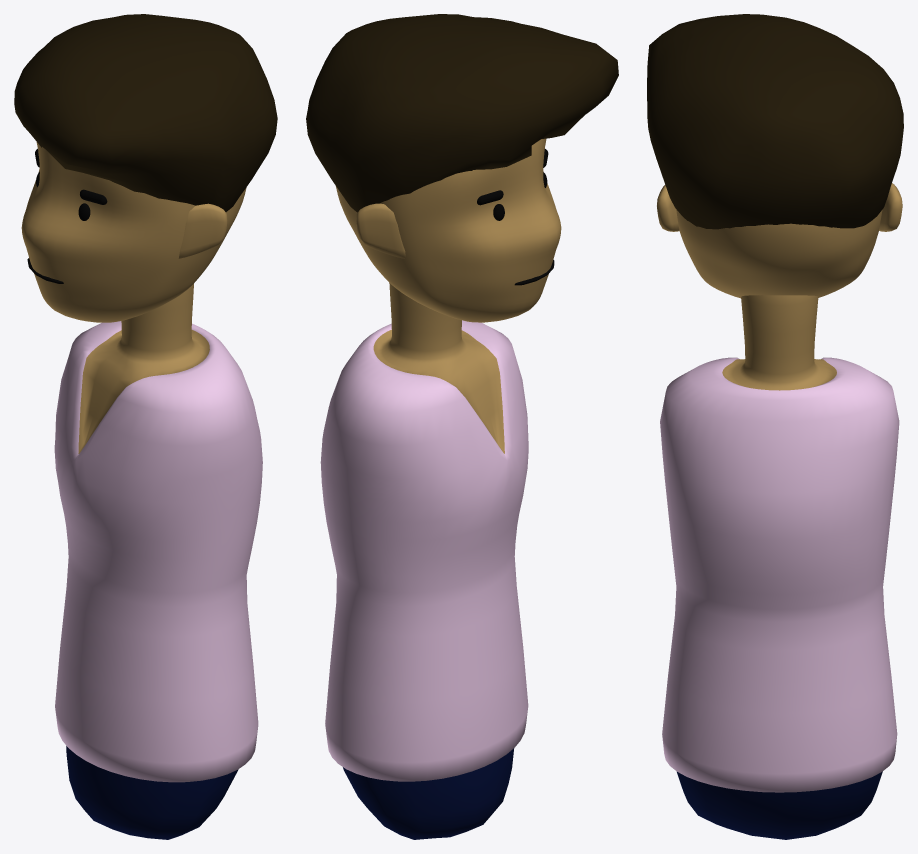
The model's file is JacobBody.fbx.
3 views of the same model, side by side, from view 1: azimuth 30°, elevation 25°; view 2: azimuth 150°, elevation 25°; view 3: azimuth 270°, elevation 25° (orthographic).
Parts seen in each view (by area): view 1: BodyPoly; view 2: BodyPoly; view 3: BodyPoly.
Boxes of the visible parts, box(x1,y1,x2,y2) form: BodyPoly: box(14, 14, 277, 839); BodyPoly: box(306, 14, 618, 839); BodyPoly: box(647, 14, 903, 839).
Size of the model in its own units: 561 by 1746 by 520.
